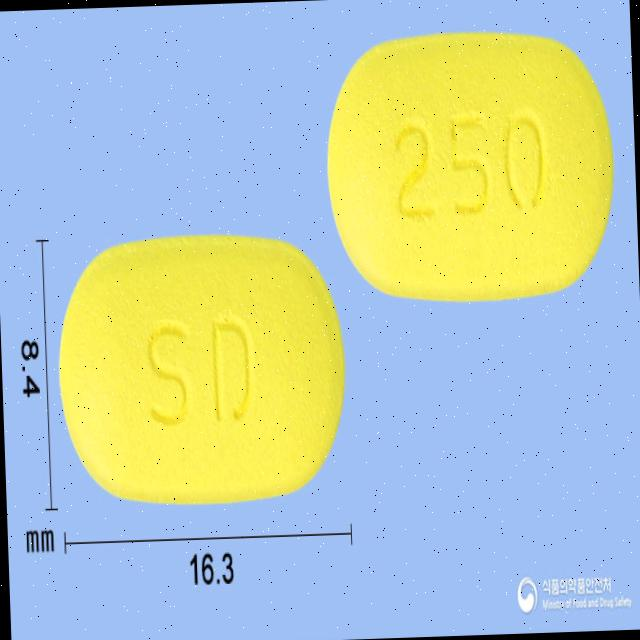Clabio - 500mg: (52, 223, 354, 518), (322, 24, 622, 313)
